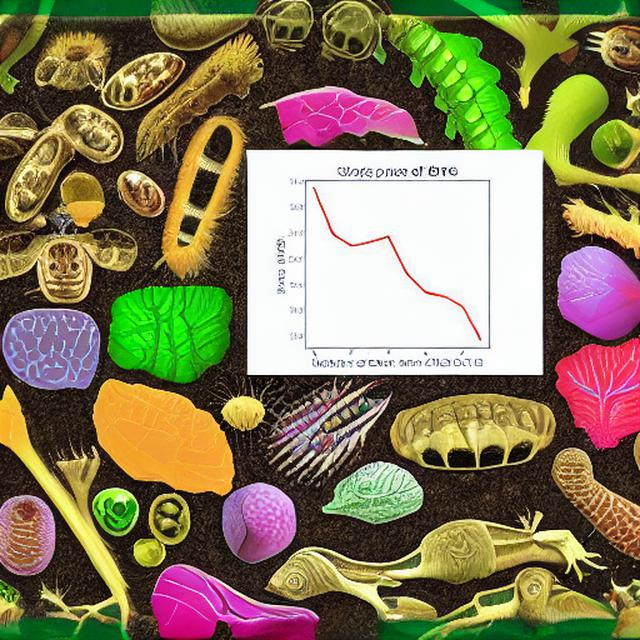Graph: (249, 154, 539, 372)
